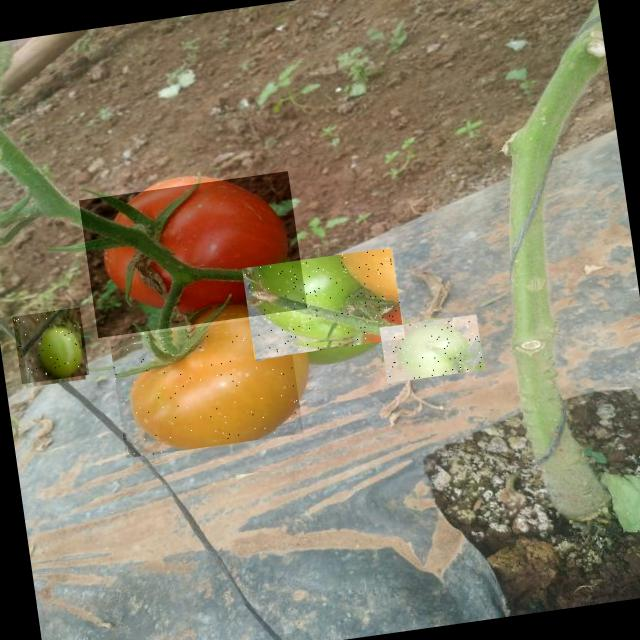Ripe Tomato: (79, 171, 307, 338)
Unripe Tomato: (110, 315, 304, 459), (242, 248, 404, 360), (379, 314, 484, 383), (12, 307, 90, 384)
